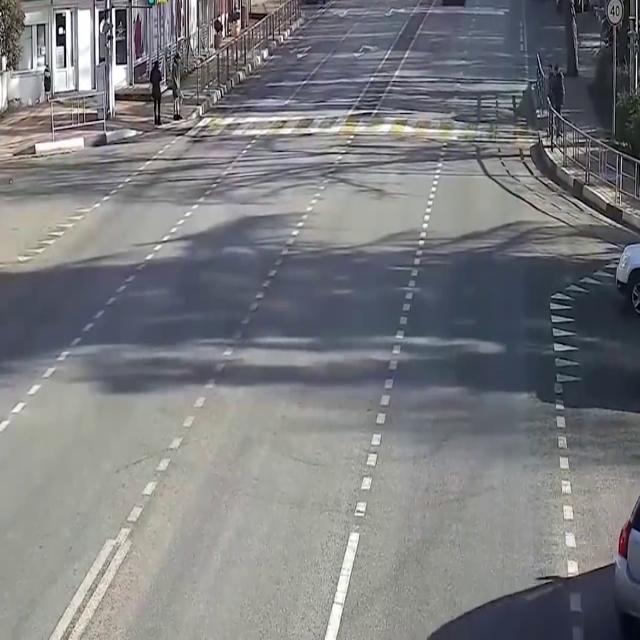noaccident: (1, 0, 640, 549)
